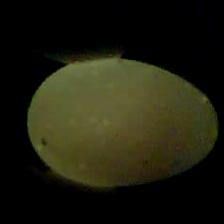infertile: (24, 56, 218, 188)
